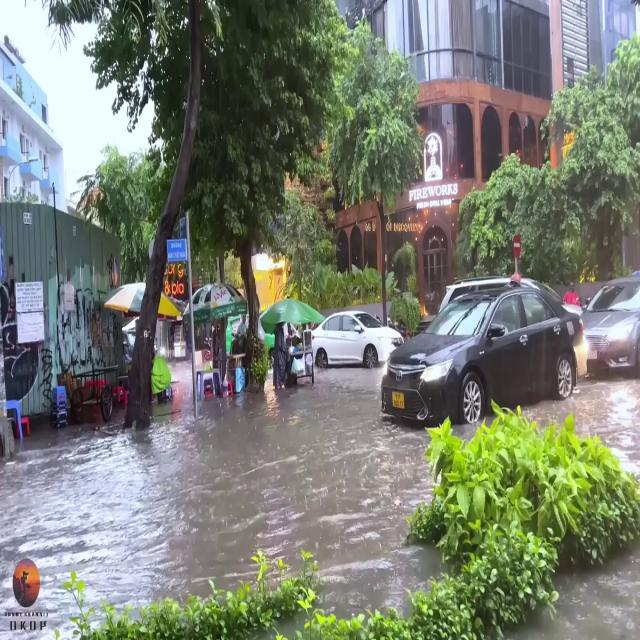bien_vang: (390, 390, 404, 408)
